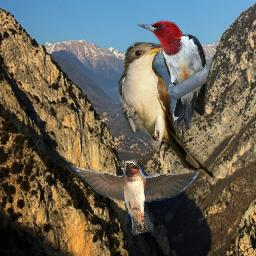Cuckoo: (118, 42, 217, 185)
Swallow: (69, 160, 203, 235)
Woodpecker: (137, 20, 207, 132)
